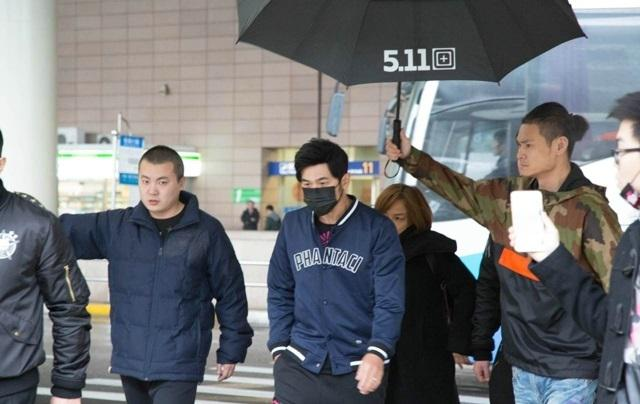NONE: (517, 135, 557, 176), (140, 171, 179, 212), (381, 207, 413, 243)
OK: (300, 173, 338, 211)
WRONG: (614, 142, 640, 208)
